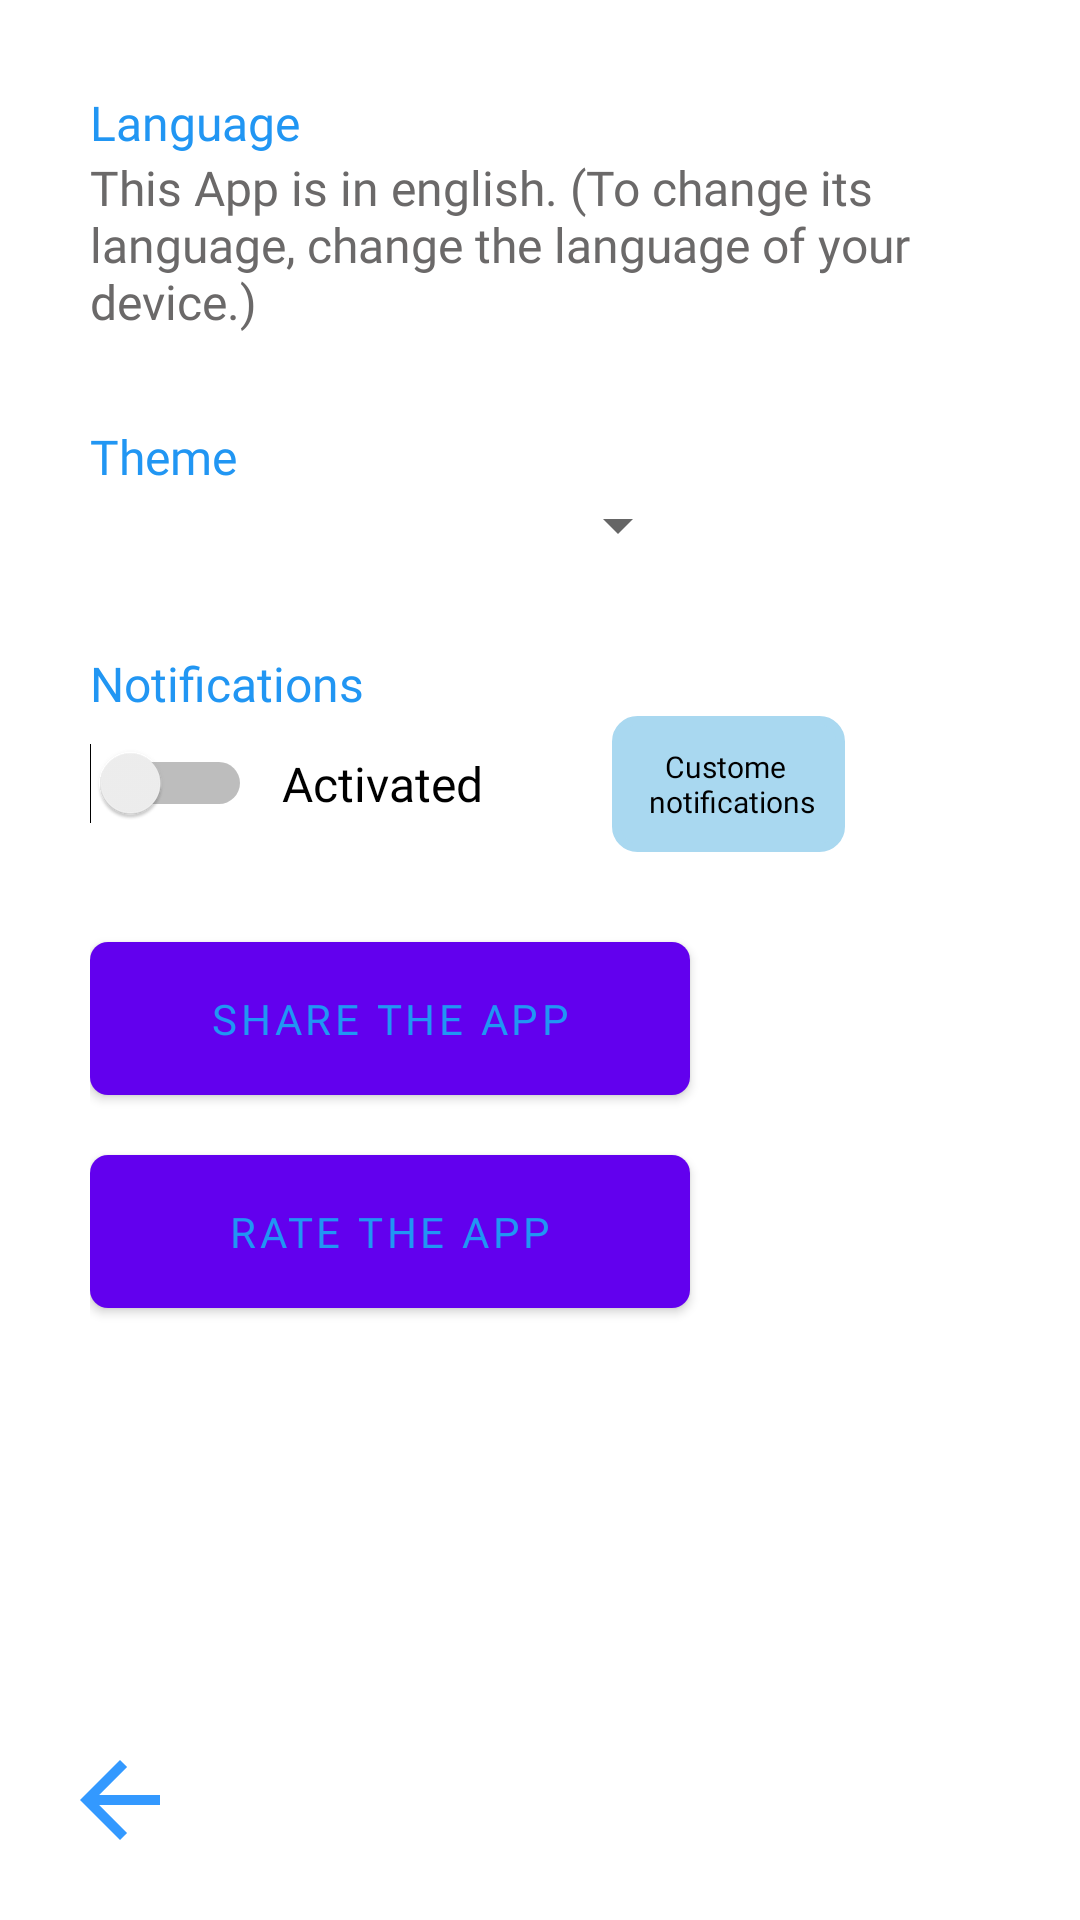

Screen size 1080px x 1920px. Icon name, then its box in pixels as (x1, y1, x2, y2):
back: (80, 1760, 160, 1840)
